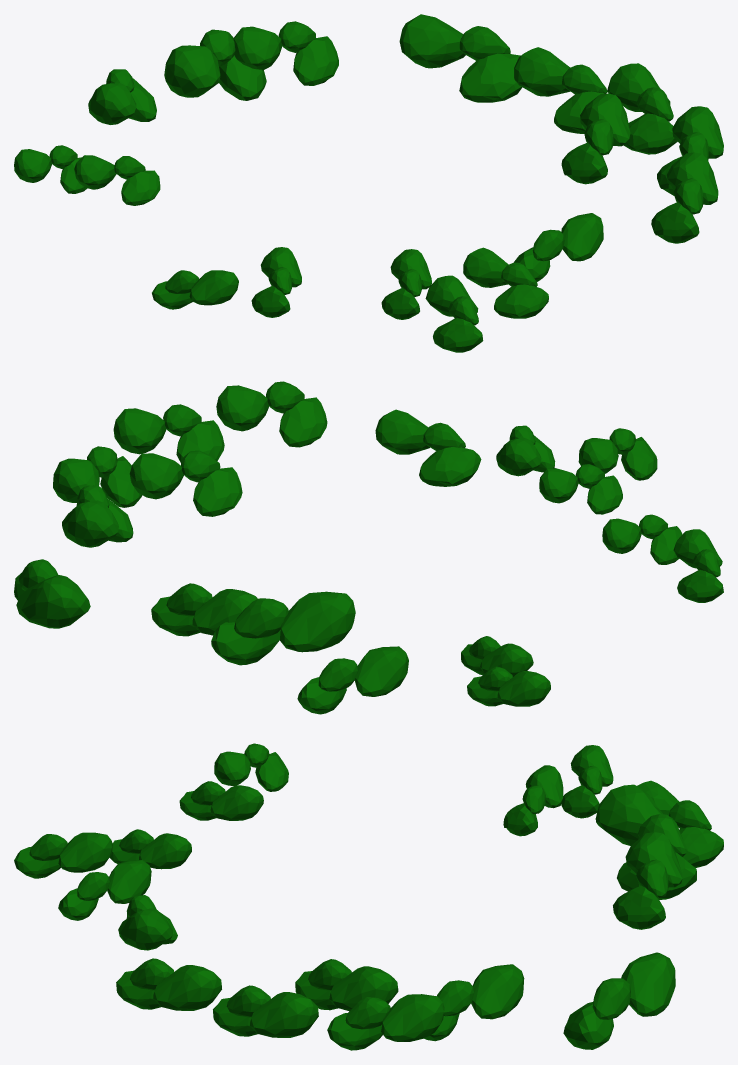
File: tree.gltf
3 views of the same model, one above another, from view 1: azimuth 30°, elevation 25°; view 2: azimuth 150°, elevation 25°; view 3: azimuth 270°, elevation 25° (orthographic). The views are drawn at different scales.
Visible parts, largest first — view 1: Sphere.033; view 2: Sphere.033; view 3: Sphere.033.
Boxes of the visible parts, x1=… form: Sphere.033: x1=14, y1=14, x2=723, y2=352; Sphere.033: x1=14, y1=381, x2=723, y2=714; Sphere.033: x1=14, y1=743, x2=723, y2=1050.
Size of the model in its own units: 3.78 by 0.6749 by 3.9.
1 material, 1 textured.
